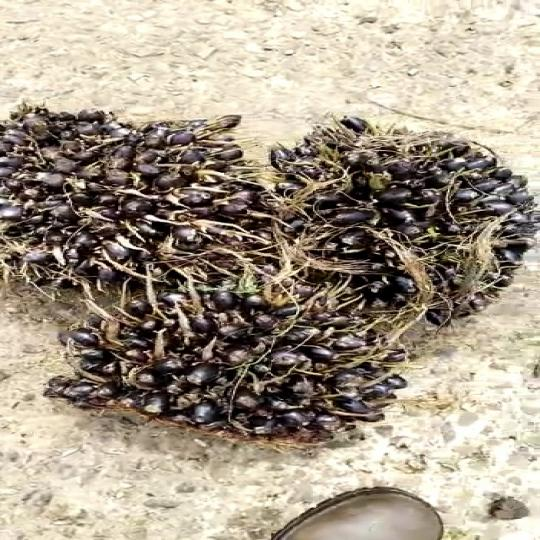mentah: (68, 285, 427, 452), (268, 112, 540, 318), (0, 100, 283, 295)
